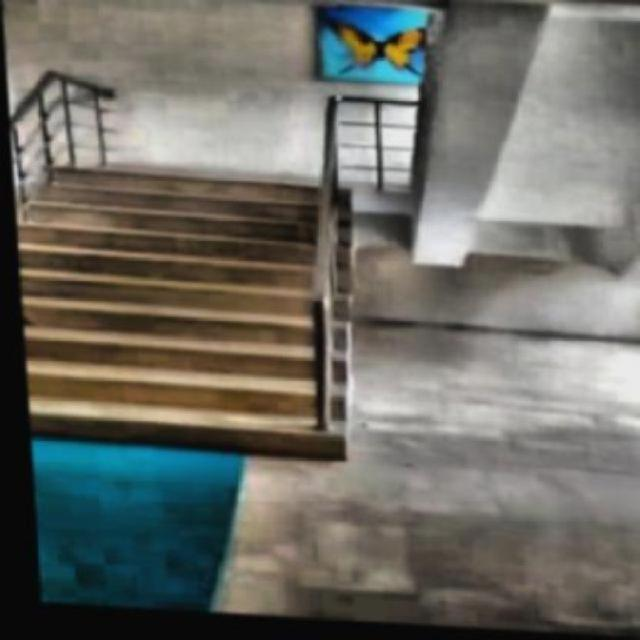stair: (12, 166, 358, 462)
